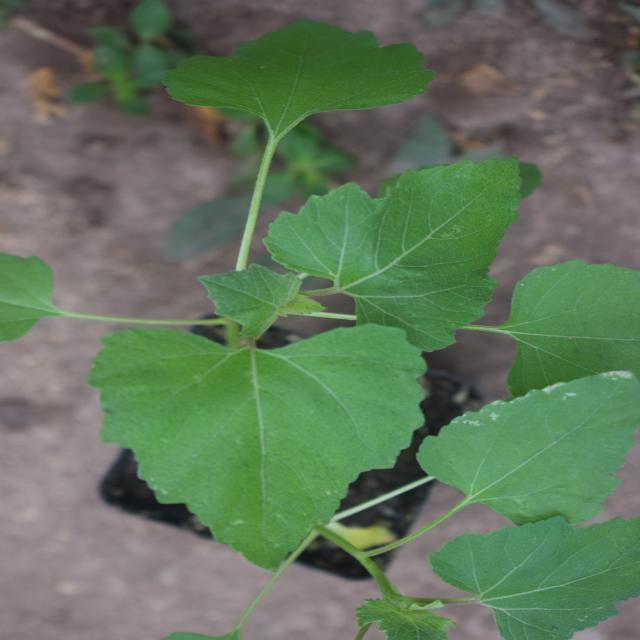cocklebur: (0, 89, 604, 573)
